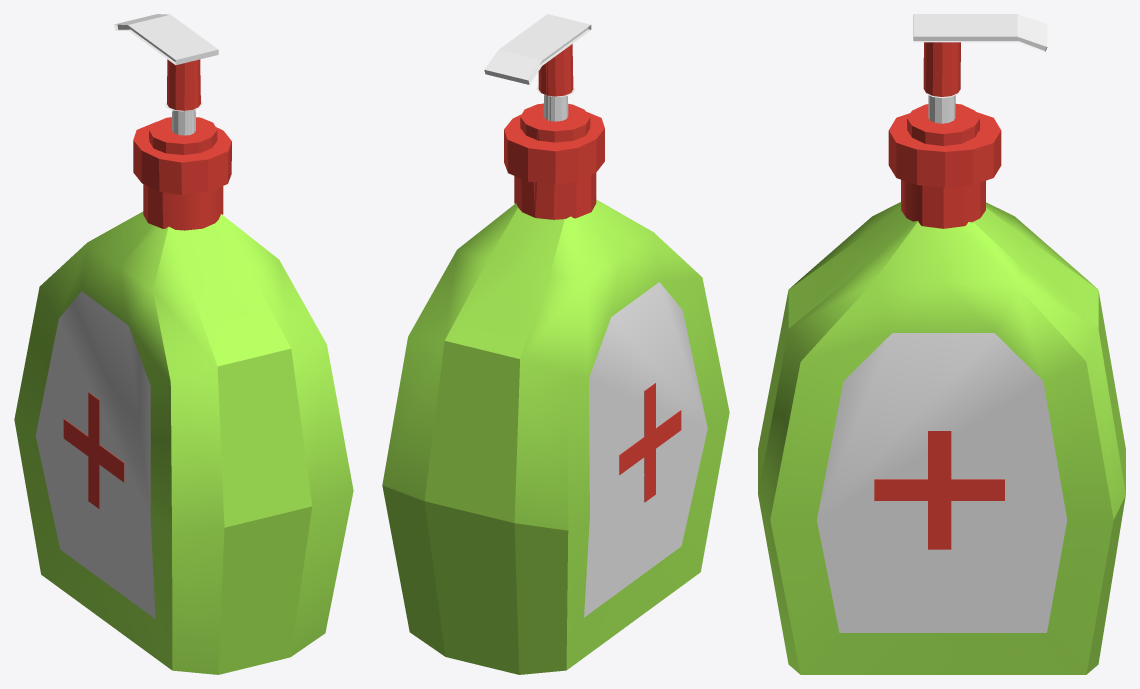
The model's file is handwash.fbx.
3 renders of one model, left to right at view 1: azimuth 30°, elevation 25°; view 2: azimuth 150°, elevation 25°; view 3: azimuth 270°, elevation 25°, orthographic. The views are drawn at different scales.
Visible parts, largest first — view 1: mesh_1083067694; view 2: mesh_1083067694; view 3: mesh_1083067694.
Part boxes in pixels (<box>): mesh_1083067694: <box>14,14,353,674</box>; mesh_1083067694: <box>382,14,729,674</box>; mesh_1083067694: <box>758,14,1125,674</box>.
Size of the model in its own units: 94.36 by 281 by 151.
